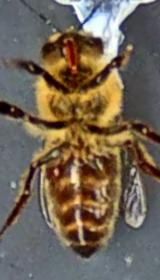varroa_mite: (38, 158, 65, 186)
